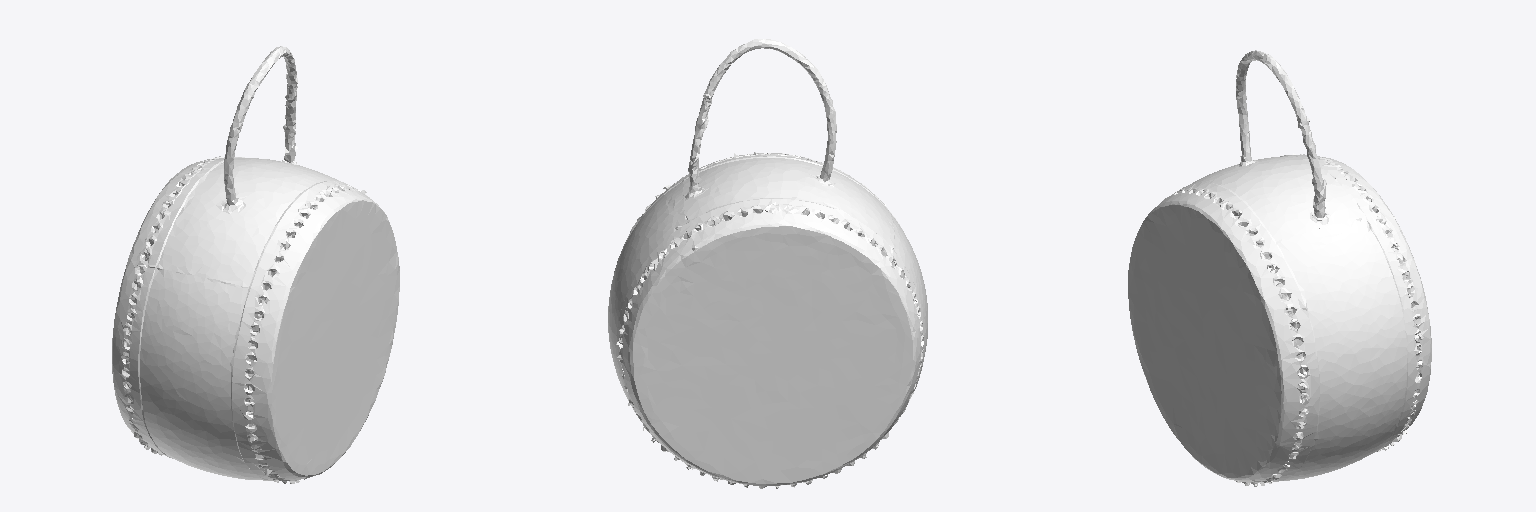
The model's file is taiko.obj.
3 renders of one model, left to right at view 1: azimuth 30°, elevation 25°; view 2: azimuth 150°, elevation 25°; view 3: azimuth 270°, elevation 25°, orthographic.
Visible parts, largest first — view 1: taiko; view 2: taiko; view 3: taiko.
Part boxes in pixels (x1,y1,x2,y2): taiko: (112,46,399,483); taiko: (608,39,927,488); taiko: (1128,50,1431,486).
Size of the model in its own units: 0.3019 by 0.4132 by 0.2727.